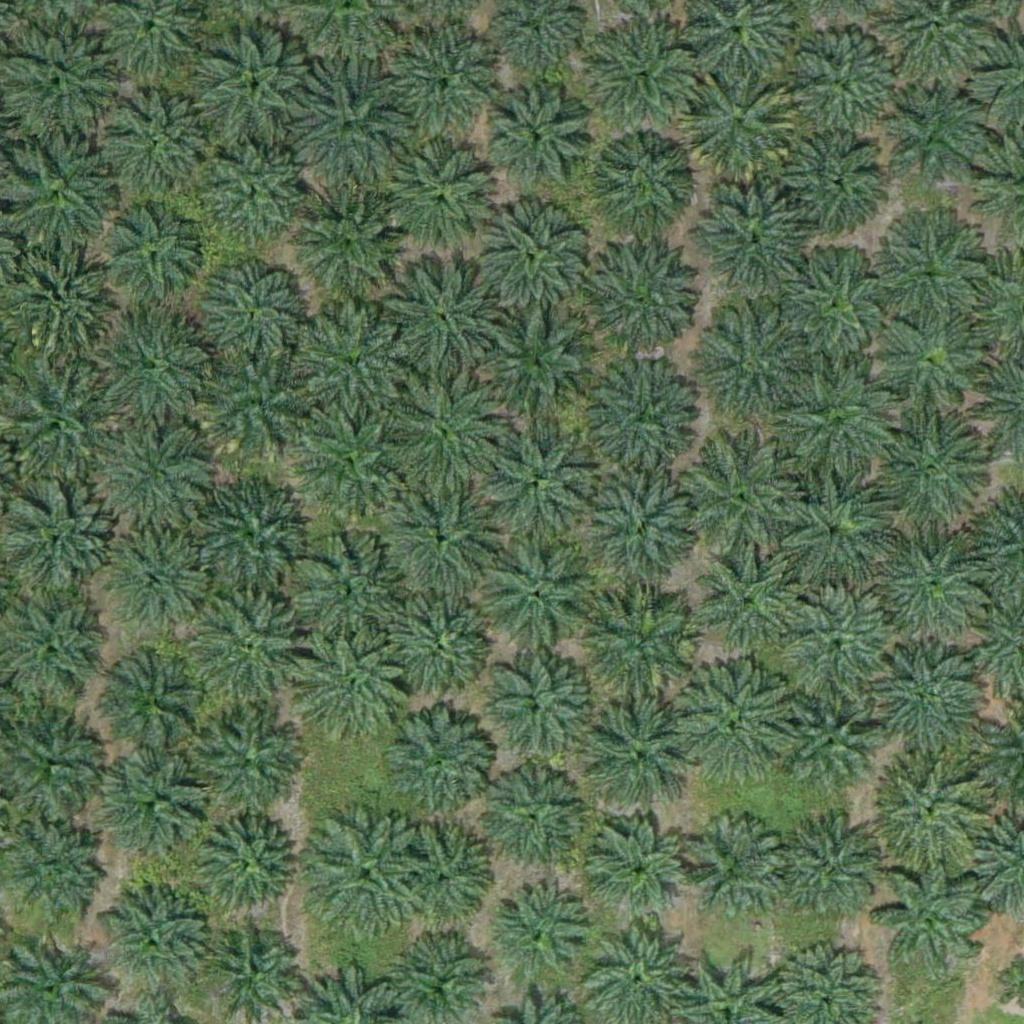Kelapa_Sawit: (283, 69, 408, 195), (194, 32, 319, 158), (869, 208, 994, 334), (776, 244, 901, 370), (5, 230, 130, 356), (91, 420, 216, 546), (92, 310, 217, 436), (189, 473, 314, 599), (185, 584, 310, 710), (293, 629, 418, 755), (286, 531, 411, 657), (378, 368, 503, 494), (380, 472, 505, 598), (376, 579, 501, 705), (372, 700, 497, 826), (474, 650, 599, 776), (474, 533, 599, 659), (581, 236, 706, 362), (584, 354, 709, 480), (580, 580, 705, 706), (579, 696, 704, 822), (677, 436, 802, 562), (684, 304, 809, 430), (689, 176, 814, 302), (773, 367, 898, 493), (767, 470, 892, 596), (775, 592, 900, 718), (862, 643, 987, 769), (870, 529, 995, 655), (865, 408, 990, 534), (301, 811, 426, 937), (679, 69, 804, 194), (581, 11, 706, 136), (379, 254, 504, 379), (480, 416, 605, 541), (480, 304, 605, 429), (580, 467, 705, 592), (675, 663, 800, 788), (108, 92, 221, 206), (876, 86, 989, 199), (788, 26, 901, 139), (200, 138, 313, 251), (293, 302, 406, 415), (195, 257, 308, 370), (202, 355, 315, 468), (876, 858, 989, 971), (99, 885, 212, 998), (393, 30, 505, 143), (3, 140, 115, 253), (101, 645, 213, 758), (293, 181, 405, 294), (190, 711, 302, 824), (389, 143, 501, 256), (877, 753, 989, 866), (783, 127, 883, 228), (593, 127, 693, 228), (488, 87, 588, 188), (103, 207, 203, 308), (301, 408, 401, 509), (483, 210, 583, 311), (700, 554, 800, 655), (781, 820, 881, 921), (680, 819, 780, 920), (590, 822, 690, 923), (478, 769, 578, 870), (490, 885, 590, 986), (392, 818, 492, 919), (113, 540, 213, 640), (881, 316, 981, 416), (195, 813, 295, 913), (204, 921, 304, 1021), (107, 757, 207, 857), (785, 702, 872, 791)
